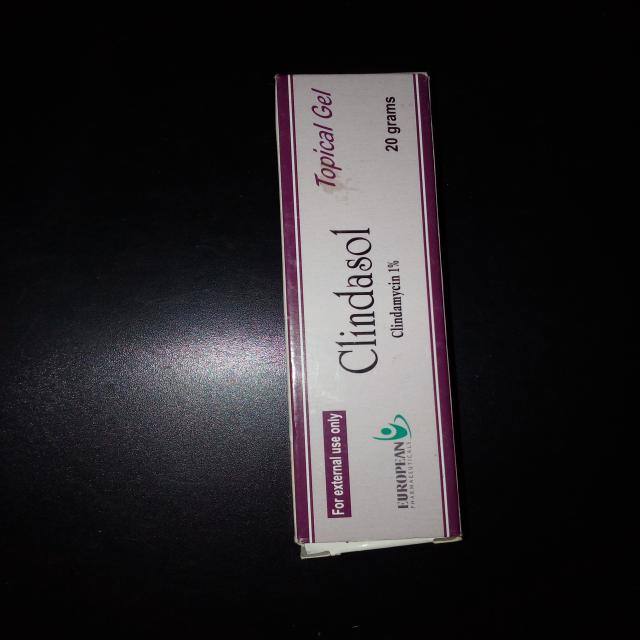Medicine: (268, 68, 469, 562)
